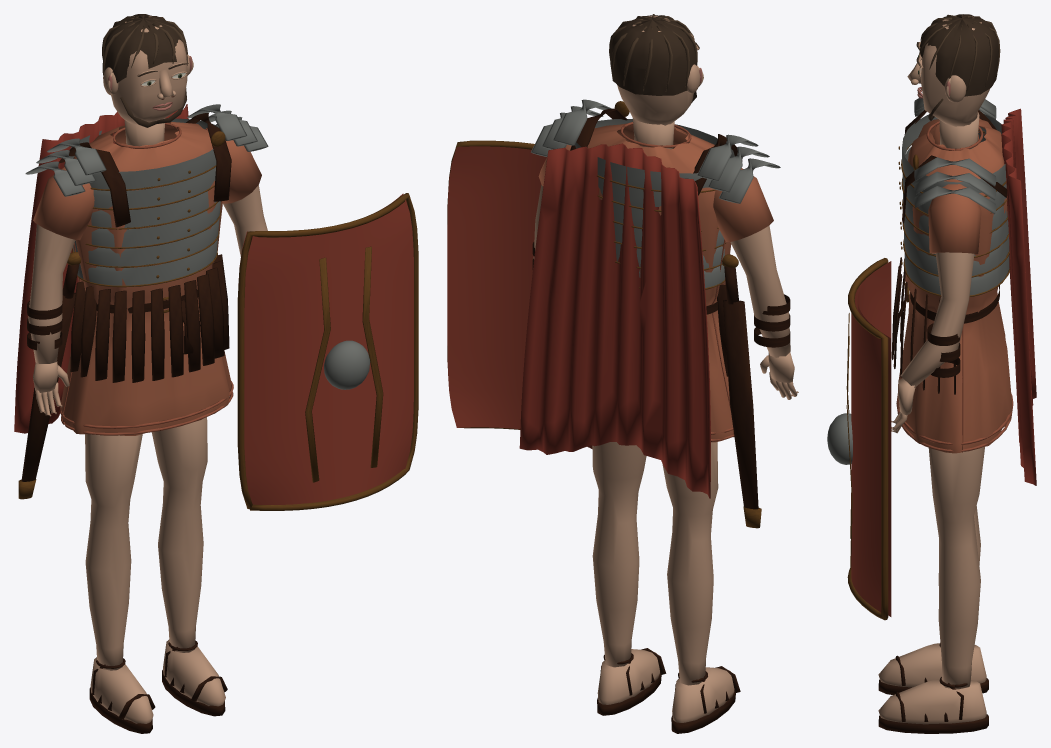
The model's file is frontier_guard.glb.
3 views of the same model, side by side, from view 1: azimuth 30°, elevation 25°; view 2: azimuth 150°, elevation 25°; view 3: azimuth 270°, elevation 25° (orthographic). The views are drawn at different scales.
Parts seen in each view (by area): view 1: frontier_guard_05, frontier_guard_00, frontier_guard_06, frontier_guard_02, frontier_guard_03, frontier_guard_01, frontier_guard_04; view 2: frontier_guard_04, frontier_guard_00, frontier_guard_05, frontier_guard_02, frontier_guard_06, frontier_guard_03, frontier_guard_01; view 3: frontier_guard_00, frontier_guard_06, frontier_guard_05, frontier_guard_03, frontier_guard_04, frontier_guard_02, frontier_guard_01.
Boxes of the visible parts, bbox=[...] form: frontier_guard_05: bbox=[238, 193, 413, 504]; frontier_guard_00: bbox=[28, 14, 267, 723]; frontier_guard_06: bbox=[33, 122, 261, 435]; frontier_guard_02: bbox=[21, 113, 231, 733]; frontier_guard_03: bbox=[25, 104, 370, 389]; frontier_guard_01: bbox=[18, 131, 418, 510]; frontier_guard_04: bbox=[14, 104, 188, 433]; frontier_guard_04: bbox=[519, 143, 710, 498]; frontier_guard_00: bbox=[533, 14, 798, 722]; frontier_guard_05: bbox=[447, 146, 592, 448]; frontier_guard_02: bbox=[532, 108, 790, 733]; frontier_guard_06: bbox=[538, 123, 773, 442]; frontier_guard_03: bbox=[531, 99, 780, 287]; frontier_guard_01: bbox=[447, 101, 761, 528]; frontier_guard_00: bbox=[878, 14, 1013, 724]; frontier_guard_06: bbox=[897, 118, 1012, 453]; frontier_guard_05: bbox=[851, 261, 891, 616]; frontier_guard_03: bbox=[827, 98, 1009, 464]; frontier_guard_04: bbox=[1001, 108, 1036, 485]; frontier_guard_02: bbox=[878, 110, 1007, 733]; frontier_guard_01: bbox=[846, 130, 1010, 620].
Size of the model in its own units: 0.9941 by 1.78 by 0.4899.
Materials: 7 (2 with a texture image).
